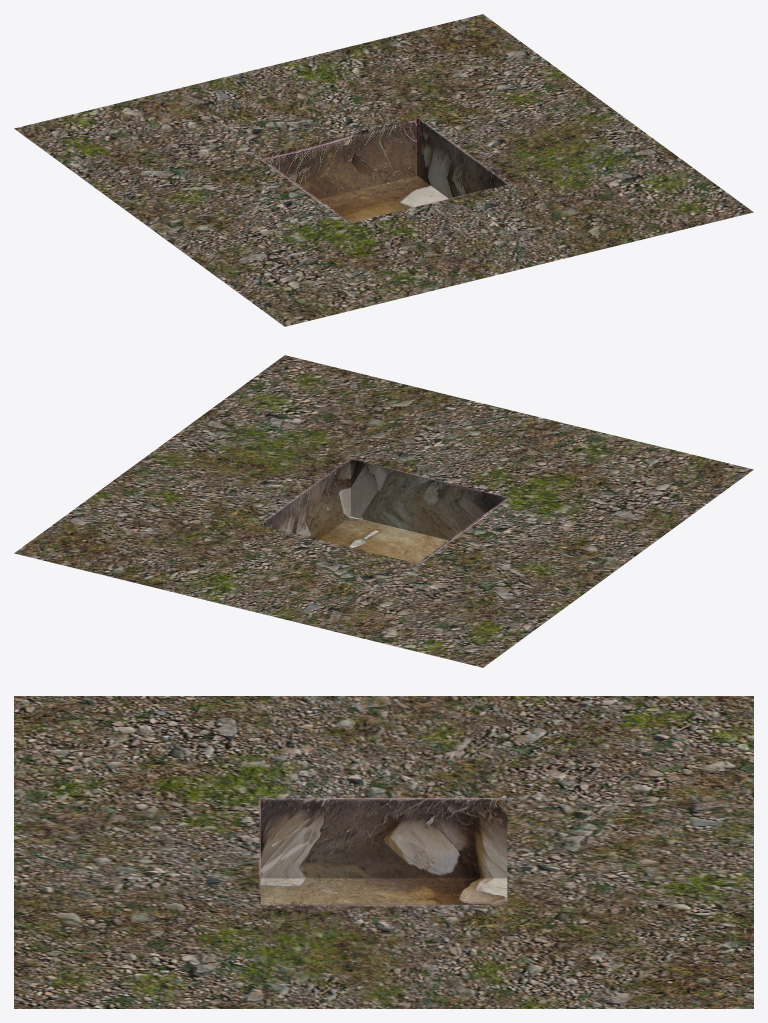
The model's file is unit_model.fbx.
3 views of the same model, one above another, from view 1: azimuth 30°, elevation 25°; view 2: azimuth 150°, elevation 25°; view 3: azimuth 270°, elevation 25° (orthographic). The views are drawn at different scales.
Parts seen in each view (by area): view 1: Plane; view 2: Plane; view 3: Plane.
Boxes of the visible parts, box(x1,y1,x2,y2) form: Plane: box(14, 14, 753, 326); Plane: box(14, 355, 753, 667); Plane: box(14, 696, 753, 1008).
Bounding box in the file's own units: 200 × 23.27 × 200.
